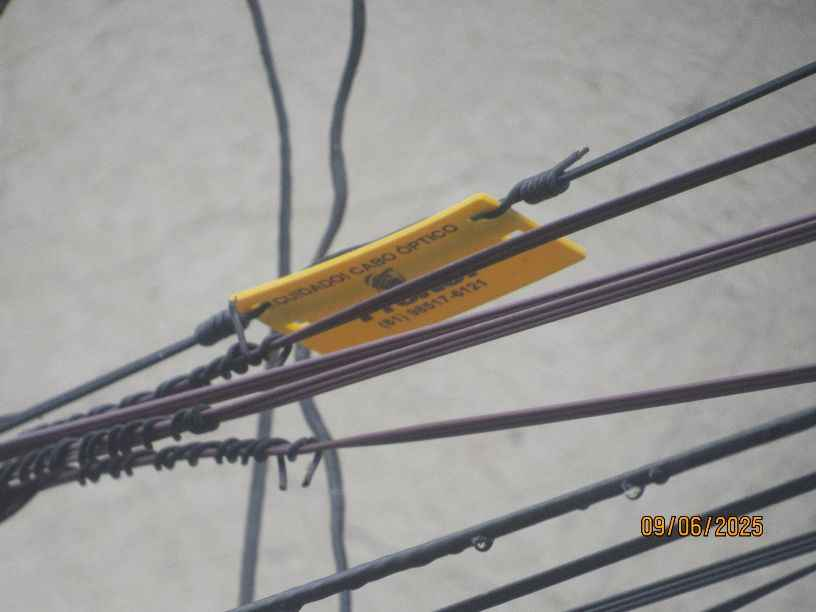fibra_optica: (148, 163, 643, 386)
